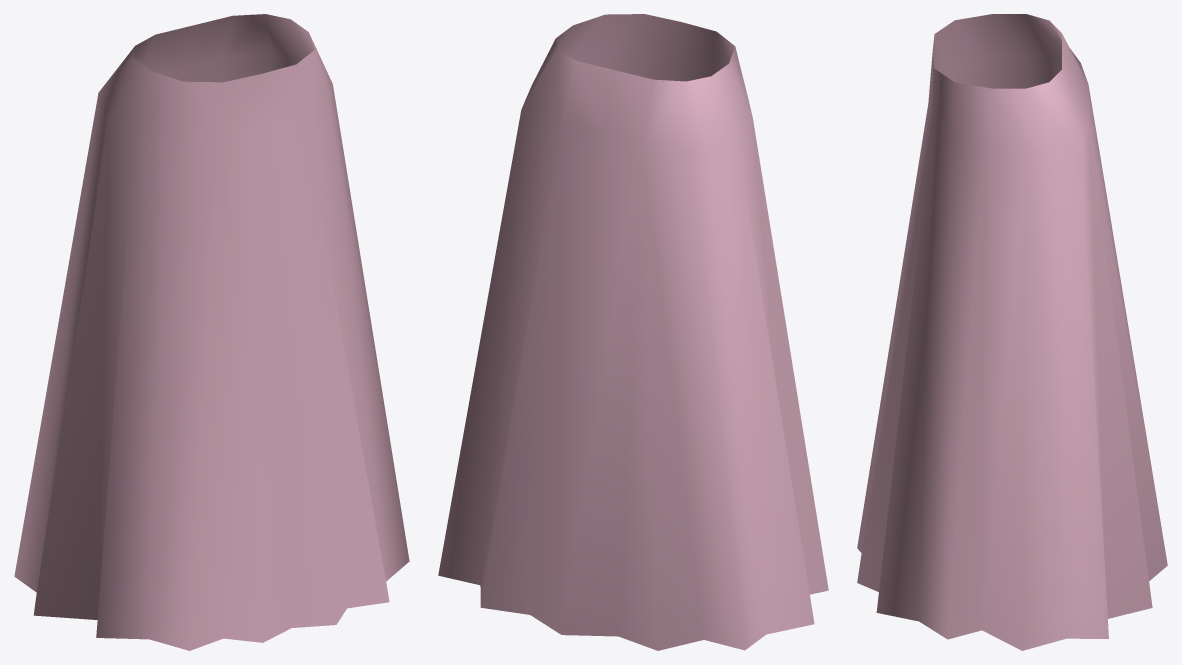
The model's file is Long_skirt.glb.
3 renders of one model, left to right at view 1: azimuth 30°, elevation 25°; view 2: azimuth 150°, elevation 25°; view 3: azimuth 270°, elevation 25°, orthographic. The views are drawn at different scales.
Visible parts, largest first — view 1: Long_skirt; view 2: Long_skirt; view 3: Long_skirt.
Part boxes in pixels (<box>): Long_skirt: <box>14,14,409,650</box>; Long_skirt: <box>438,14,828,650</box>; Long_skirt: <box>857,14,1167,650</box>.
Size of the model in its own units: 0.5436 by 0.7633 by 0.4179.
